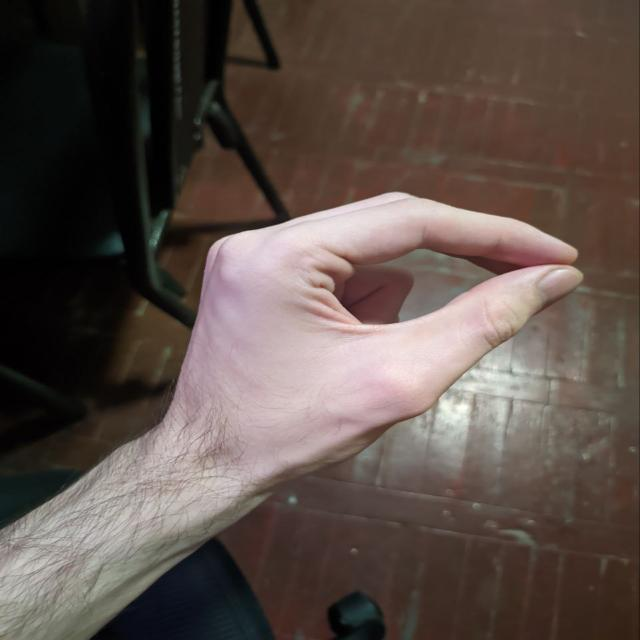ch: (175, 183, 610, 505)
